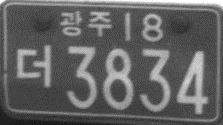1: (124, 10, 133, 43)
3: (66, 44, 98, 108), (139, 47, 171, 111)
4: (175, 51, 209, 115)
8: (102, 47, 134, 110), (141, 12, 163, 44)
광주_O: (59, 9, 112, 39)
더: (15, 42, 53, 90)
